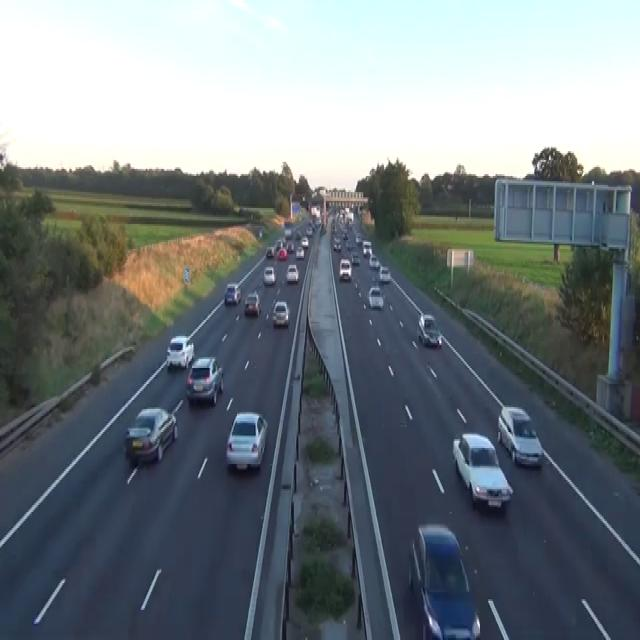Car: (407, 523, 480, 638), (452, 432, 513, 510), (123, 405, 178, 466), (497, 406, 543, 468), (225, 411, 268, 471), (185, 356, 224, 406), (166, 334, 194, 368), (417, 313, 442, 347), (272, 299, 289, 327), (367, 284, 384, 310), (244, 290, 260, 316), (224, 282, 241, 306), (419, 313, 435, 331), (339, 258, 351, 281), (286, 263, 298, 283), (378, 265, 391, 283), (263, 265, 275, 284), (362, 240, 372, 256), (277, 247, 287, 260), (351, 251, 360, 265), (369, 254, 378, 268), (296, 245, 304, 258), (266, 245, 274, 258), (333, 237, 341, 250), (275, 238, 284, 249), (313, 217, 321, 227), (284, 228, 292, 238), (305, 224, 312, 235), (320, 224, 327, 235), (346, 238, 353, 249), (355, 233, 362, 243), (301, 237, 308, 247), (287, 242, 294, 252), (343, 229, 348, 240), (295, 230, 301, 238), (259, 228, 262, 238)
